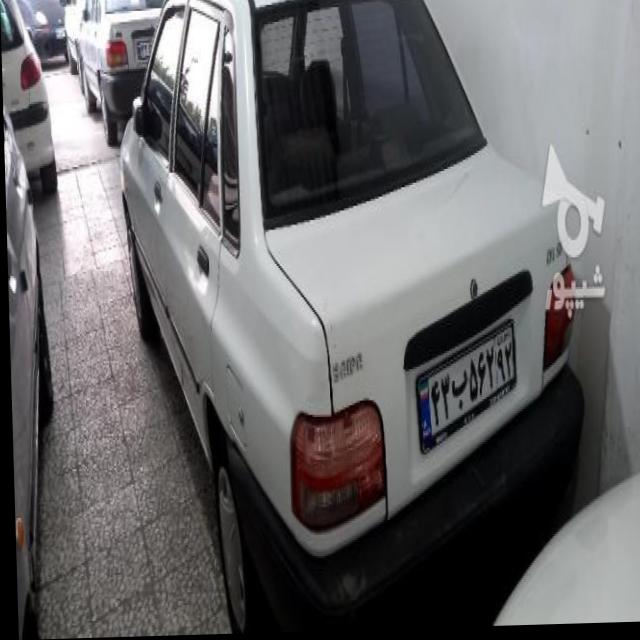licence: (411, 311, 517, 455), (132, 33, 151, 61)
